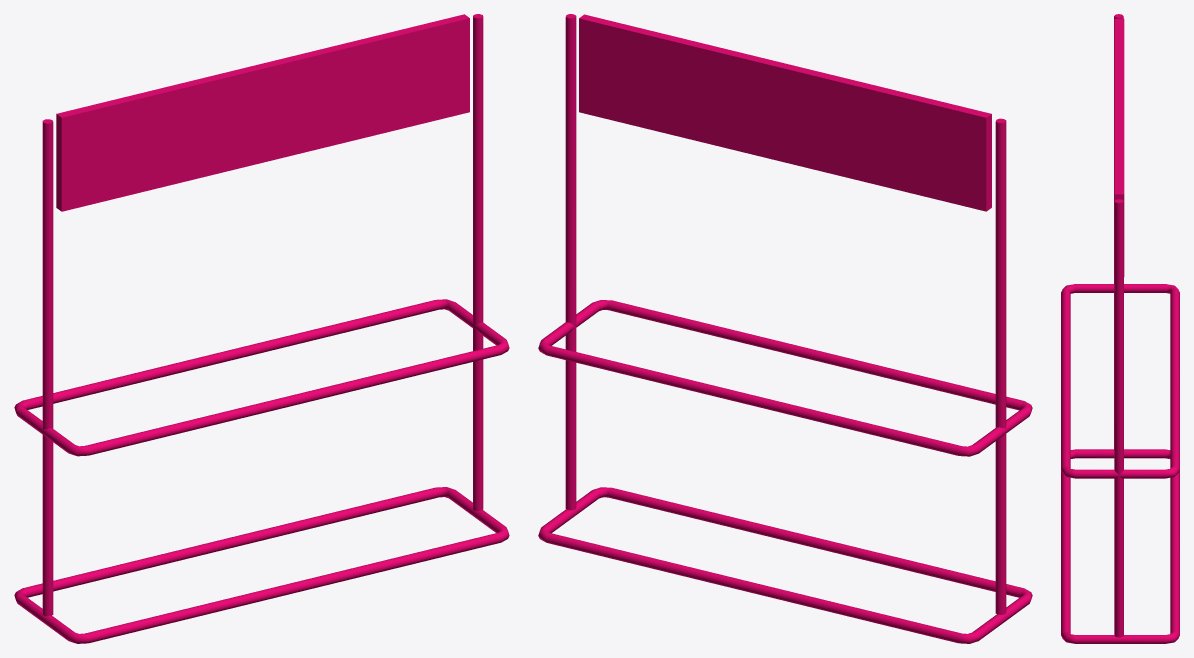
File: Tire_Shelf_01_Lod1.fbx
3 renders of one model, left to right at view 1: azimuth 30°, elevation 25°; view 2: azimuth 150°, elevation 25°; view 3: azimuth 270°, elevation 25°, orthographic. The views are drawn at different scales.
Parts seen in each view (by area): view 1: Tire_Shelf_01_Lod1; view 2: Tire_Shelf_01_Lod1; view 3: Tire_Shelf_01_Lod1.
Boxes of the visible parts, x1=… form: Tire_Shelf_01_Lod1: x1=14, y1=14, x2=509, y2=643; Tire_Shelf_01_Lod1: x1=538, y1=14, x2=1032, y2=643; Tire_Shelf_01_Lod1: x1=1061, y1=14, x2=1179, y2=643.
Bounding box in the file's own units: 212 × 231 × 56.
